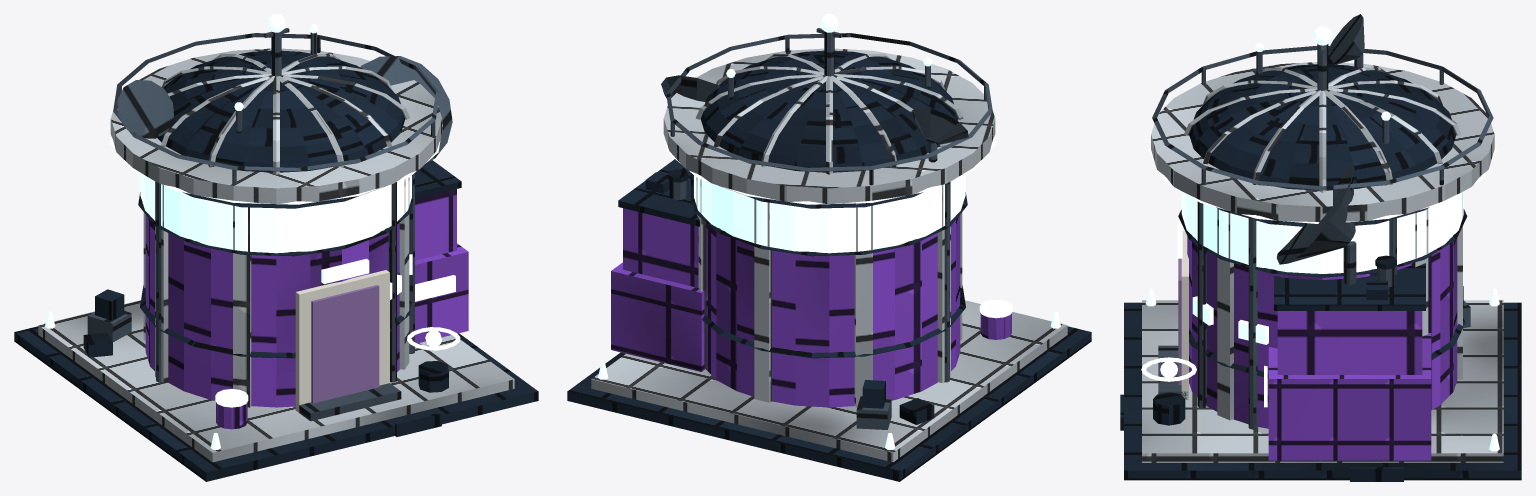
Rendered from ResearchLab.fbx.
The picture shows the model from 3 angles, left to right: view 1: azimuth 30°, elevation 25°; view 2: azimuth 150°, elevation 25°; view 3: azimuth 270°, elevation 25°; orthographic projection. The views are drawn at different scales.
Parts seen in each view (by area): view 1: Lab_Tower, Lab_Dome, Lab_Tier, Lab_Deck, Lab_WindowBand, Lab_Plinth, Lab_Door, Lab_DoorFrame, Lab_Annex, Lab_DeckRail, Lab_Rib_05, Lab_Dish2 (+27 smaller); view 2: Lab_Tower, Lab_Tier, Lab_Dome, Lab_Deck, Lab_WindowBand, Lab_Plinth, Lab_Annex, Lab_AnnexTop, Lab_DeckRail, Lab_Rib_02, Lab_Rib_03, Lab_AnnexRoof (+19 smaller); view 3: Lab_Dome, Lab_Tier, Lab_Deck, Lab_Annex, Lab_Plinth, Lab_Tower, Lab_WindowBand, Lab_AnnexTop, Lab_AnnexRoof, Lab_DeckRail, Lab_Dish, Lab_Rib_06 (+24 smaller).
Part boxes in pixels (x1,y1,x2,y2): Lab_Tower: (145, 203, 399, 407); Lab_Dome: (157, 50, 405, 172); Lab_Tier: (38, 300, 514, 462); Lab_Deck: (110, 48, 442, 203); Lab_WindowBand: (140, 174, 411, 253); Lab_Plinth: (14, 326, 538, 481); Lab_Door: (311, 285, 379, 403); Lab_DoorFrame: (295, 270, 389, 412); Lab_Annex: (415, 243, 468, 343); Lab_DeckRail: (113, 33, 439, 171); Lab_Rib_05: (233, 203, 251, 407); Lab_Dish2: (117, 80, 174, 138); Lab_Tower: (706, 203, 960, 407); Lab_Tier: (591, 300, 1067, 462); Lab_Dome: (700, 50, 958, 172); Lab_Deck: (663, 48, 995, 203); Lab_WindowBand: (694, 174, 965, 253); Lab_Plinth: (567, 326, 1091, 481); Lab_Annex: (611, 262, 704, 371); Lab_AnnexTop: (623, 208, 698, 287); Lab_DeckRail: (666, 33, 992, 171); Lab_Rib_02: (754, 199, 771, 402); Lab_Rib_03: (854, 203, 872, 407); Lab_AnnexRoof: (618, 159, 699, 226); Lab_Dome: (1189, 64, 1456, 190); Lab_Tier: (1142, 300, 1503, 462); Lab_Deck: (1151, 62, 1494, 221); Lab_Annex: (1268, 333, 1431, 460); Lab_Plinth: (1124, 302, 1521, 480); Lab_Tower: (1187, 236, 1457, 428); Lab_WindowBand: (1181, 191, 1463, 273); Lab_AnnexTop: (1277, 311, 1422, 374); Lab_AnnexRoof: (1274, 263, 1425, 310); Lab_DeckRail: (1152, 46, 1493, 190); Lab_Dish: (1276, 164, 1355, 264); Lab_Rib_06: (1217, 208, 1233, 420).
Bounding box in the file's own units: 2.22 × 2.26 × 2.22.
